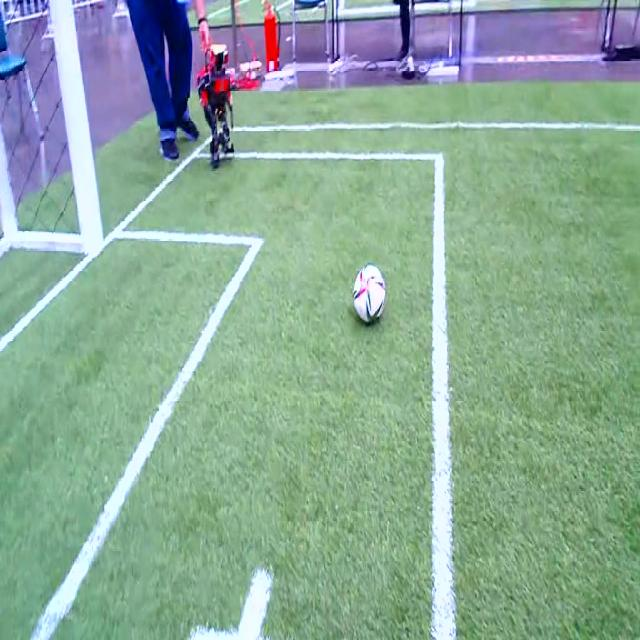ball: (354, 264, 386, 322)
